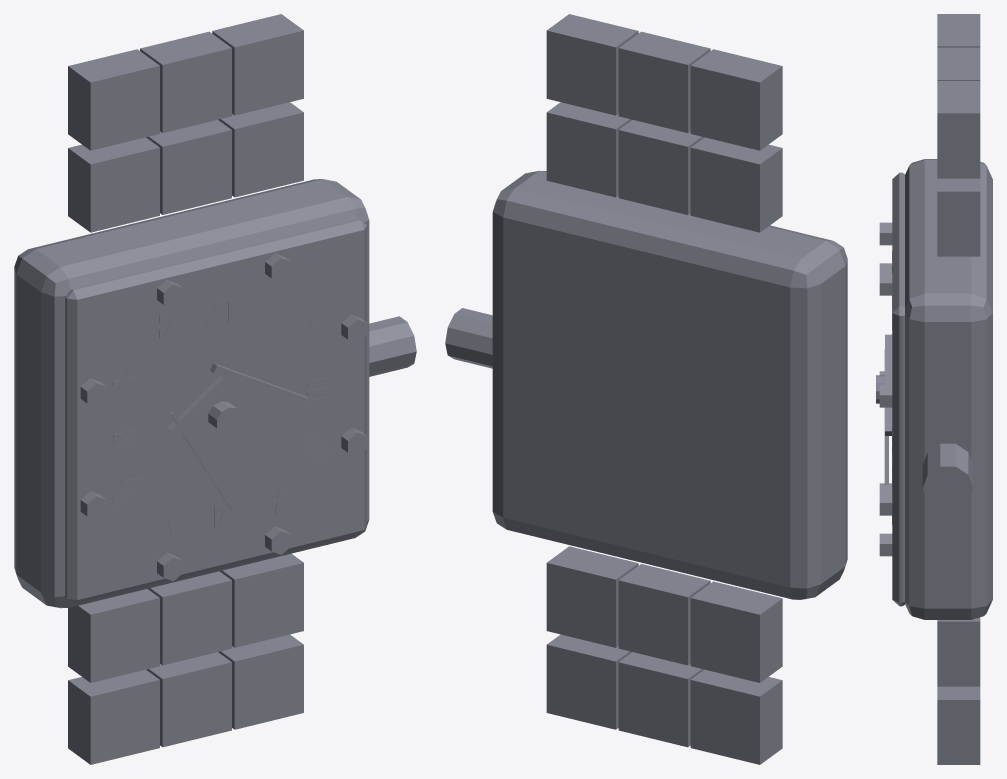
The model's file is rlj_santo.fbx.
3 renders of one model, left to right at view 1: azimuth 30°, elevation 25°; view 2: azimuth 150°, elevation 25°; view 3: azimuth 270°, elevation 25°, orthographic. The views are drawn at different scales.
Visible parts, largest first — view 1: Caja__metal_acero, Caja__metal_plata, Manecillas__esmalte_azul, Esfera__esmalte_negro; view 2: Caja__metal_acero; view 3: Caja__metal_acero, Caja__metal_plata, Manecillas__esmalte_azul.
Boxes of the visible parts, x1,y1,x2,y2 form: Caja__metal_acero: (14, 14, 416, 764); Caja__metal_plata: (80, 253, 367, 581); Manecillas__esmalte_azul: (167, 363, 309, 511); Esfera__esmalte_negro: (108, 291, 333, 545); Caja__metal_acero: (445, 14, 847, 764); Caja__metal_acero: (892, 14, 992, 764); Caja__metal_plata: (879, 222, 892, 556); Manecillas__esmalte_azul: (876, 334, 892, 484).
Bounding box in the file's own units: 115 × 200 × 32.5.
